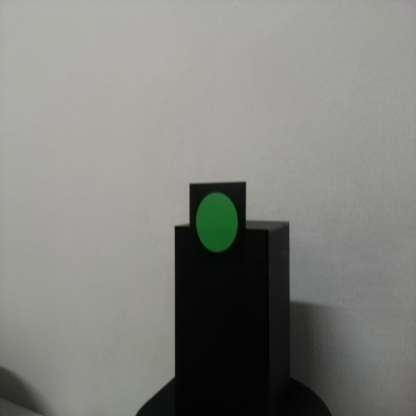id_5: (189, 182, 247, 267)
